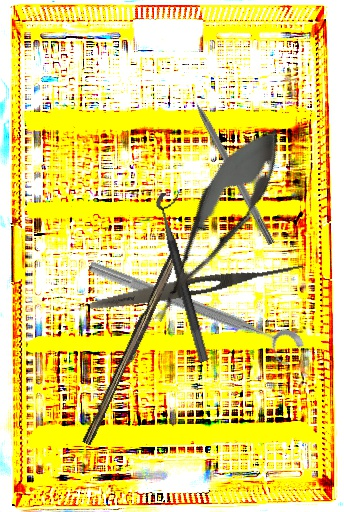Dressing Forceps: (88, 255, 308, 316)
Fixation Ring: (81, 255, 307, 371), (153, 189, 224, 363)
Hook Surgical: (183, 82, 277, 246)
Micro Scissor: (133, 113, 298, 335)
Scalpel Handle: (81, 249, 183, 449)
